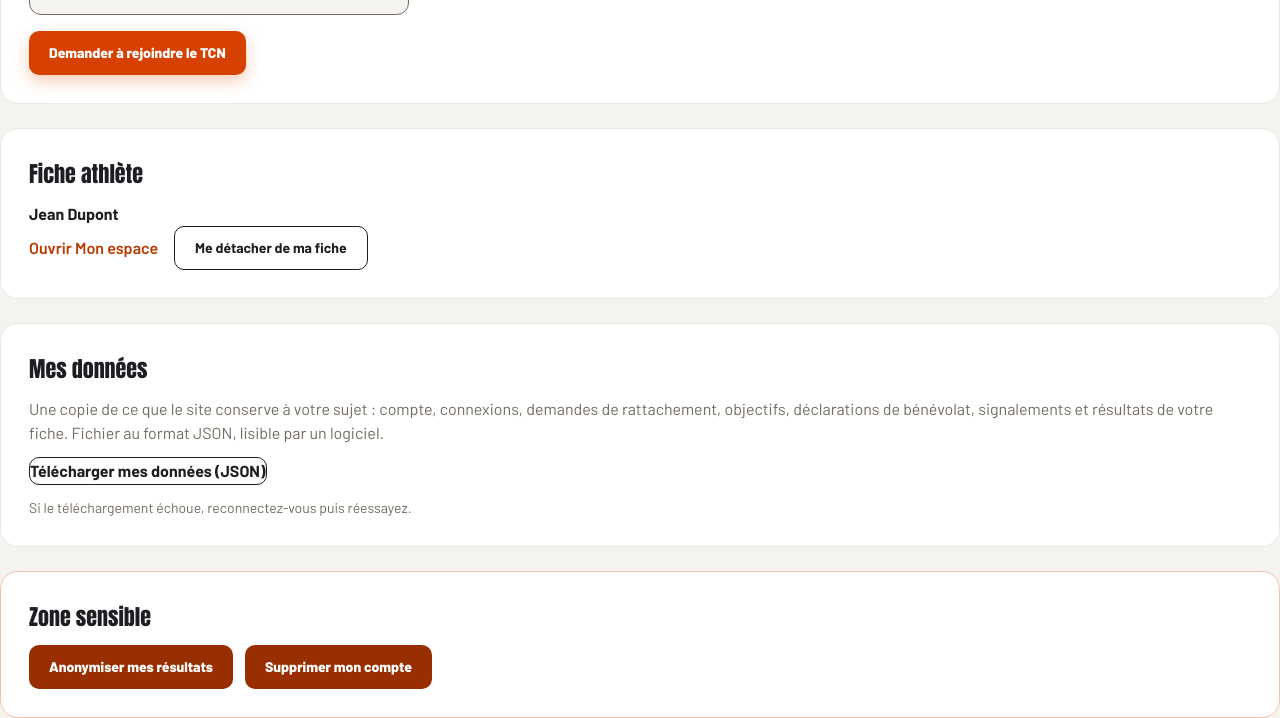
Scenario: AccountPage: anonymise my results (#1673) › says when no result is published yet
The image size is (1280, 718).
(page scrolled)
Step 1. Click the button "Anonymiser mes résultats" → {"x": 131, "y": 667}, box x1=29 y1=645 x2=233 y2=689
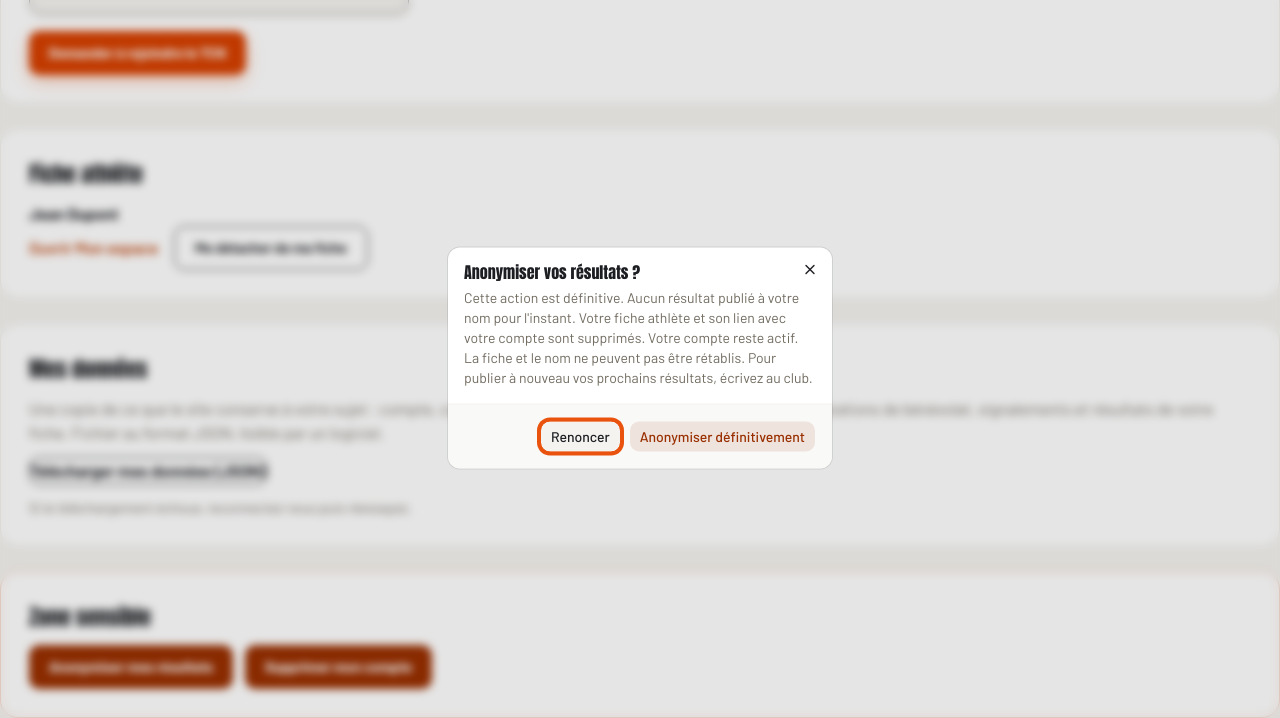
Now the dialog shows "Aucun résultat publié à votre nom pour l'instant.", box x1=464 y1=288 x2=799 y2=326
Now the button "Anonymiser définitivement" is enabled, box x1=629 y1=420 x2=816 y2=452
